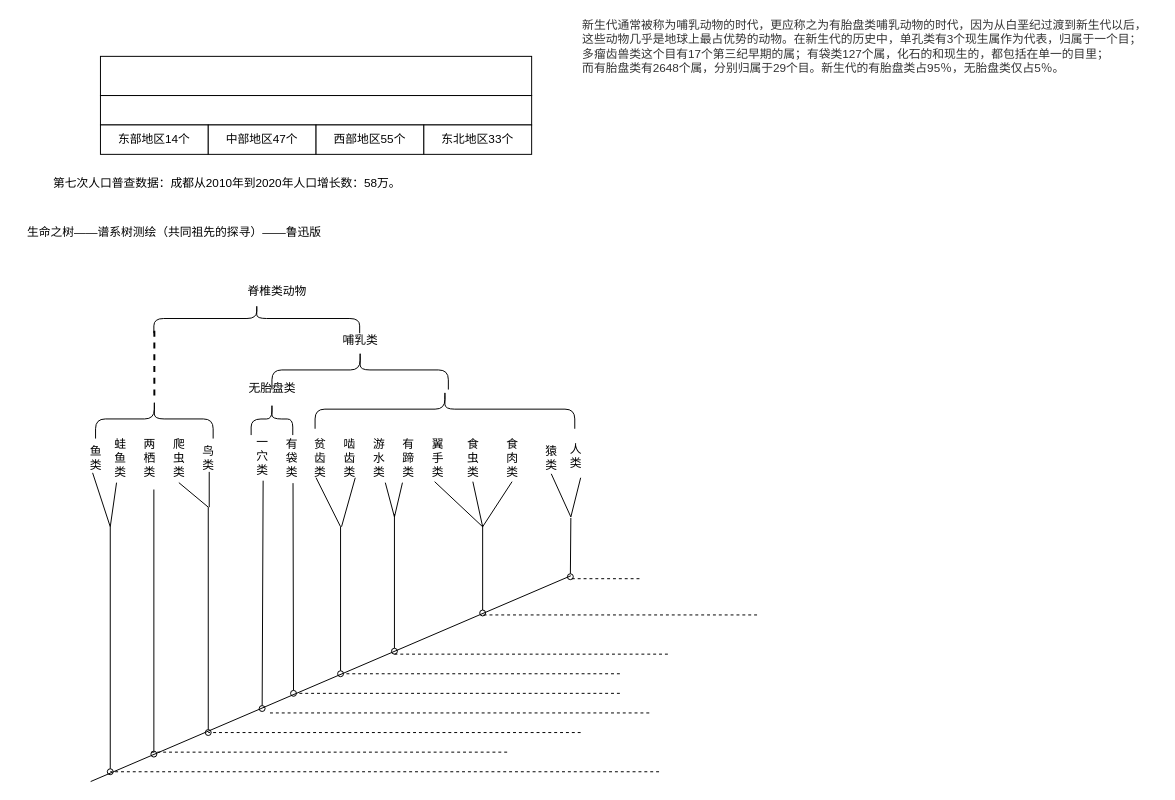
Some shapes in this 1175 by 800 pixel diagram are drawn without their labels. The shapes that lost their labels are listed below. From the top down, each one's centre as x and y in pixels, then its label:
At (315,75): "全国149市人口减少".
At (315,110): "分列到各区域中的23个省份".
At (444,409): "有胎盘类".
